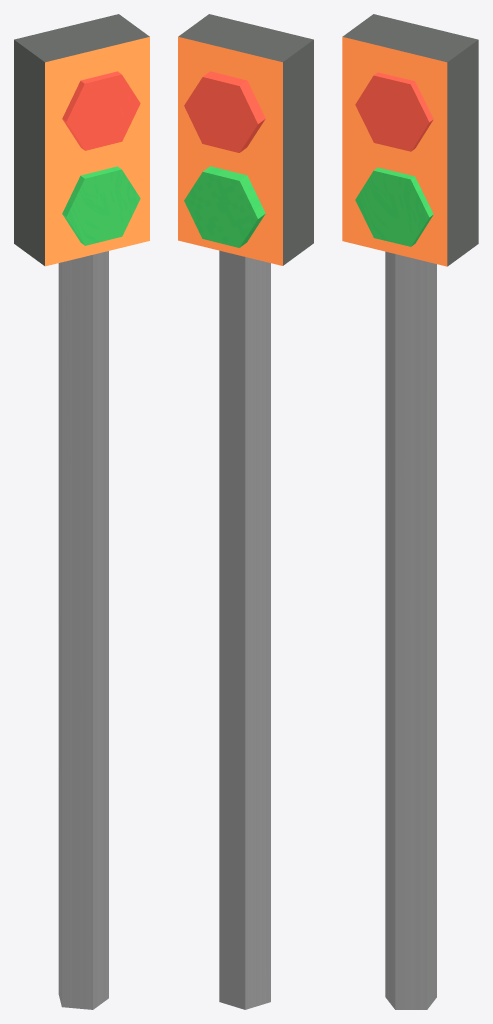
The model's file is stolb.008.glb.
The picture shows the model from 3 angles, left to right: view 1: azimuth 30°, elevation 25°; view 2: azimuth 150°, elevation 25°; view 3: azimuth 330°, elevation 25°; orthographic projection.
Parts seen in each view (by area): view 1: stolb.008(Clone); view 2: stolb.008(Clone); view 3: stolb.008(Clone).
Boxes of the visible parts, box(x1,y1,x2,y2) form: stolb.008(Clone): box(14, 14, 149, 1009); stolb.008(Clone): box(178, 14, 313, 1009); stolb.008(Clone): box(342, 14, 478, 1009).
Bounding box in the file's own units: 0.3204 × 2.81 × 0.2282.
1 material, 1 textured.
